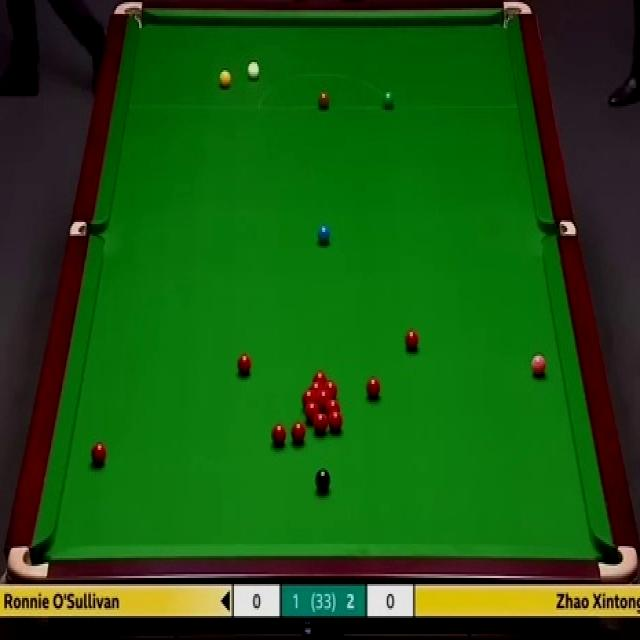black-ball: (315, 466, 331, 496)
blue-ball: (316, 224, 332, 246)
brown-ball: (317, 90, 330, 110)
green-ball: (382, 90, 395, 109)
pink-ball: (531, 352, 547, 378)
red-ball: (290, 420, 307, 448), (235, 351, 252, 378), (90, 442, 107, 468), (270, 422, 286, 446), (328, 410, 343, 435), (366, 376, 381, 400), (405, 328, 420, 352), (304, 401, 319, 422), (314, 413, 328, 435), (323, 380, 338, 399), (315, 388, 330, 406), (302, 388, 316, 406), (313, 371, 328, 382), (308, 381, 324, 391), (326, 401, 340, 412)
white-ball: (247, 62, 260, 84)
yellow-ball: (219, 69, 233, 89)
